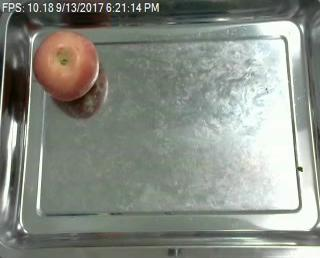apple: (32, 30, 100, 101)
